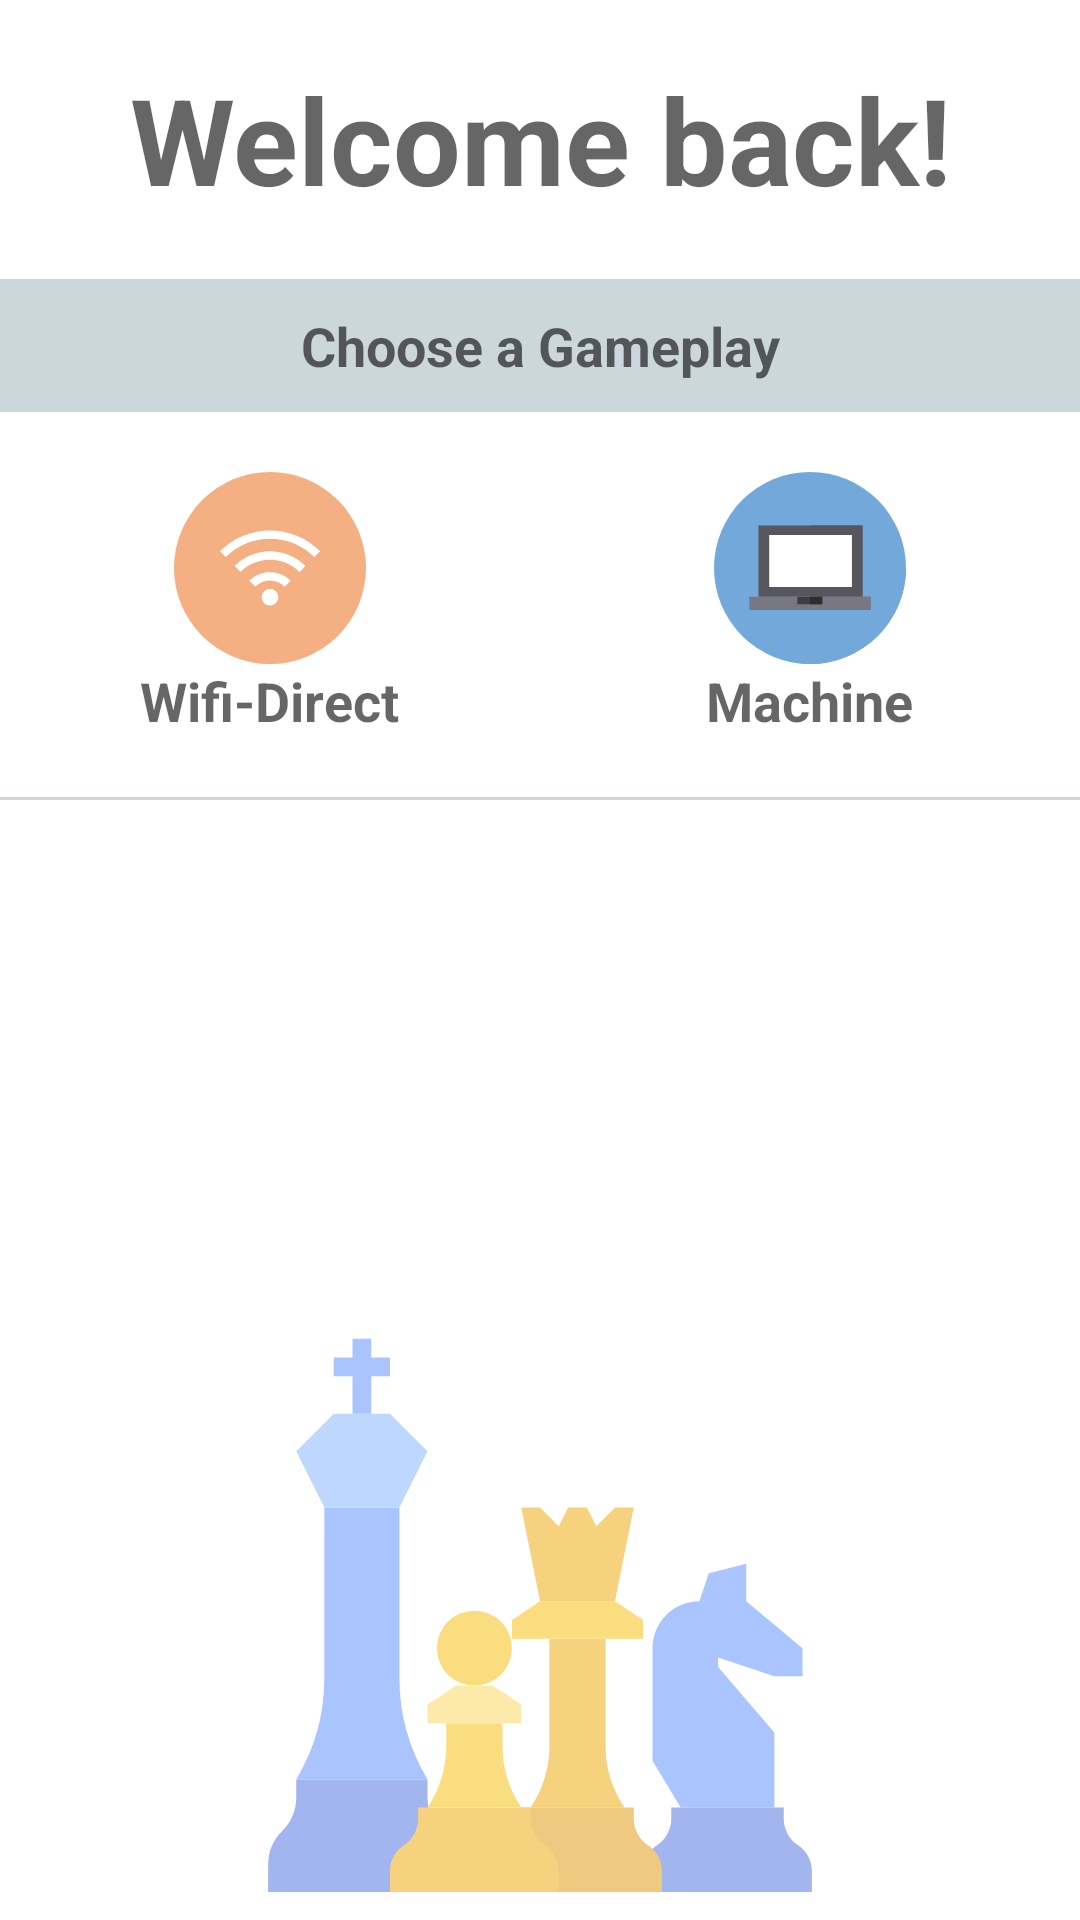

Named icons in this screenshot (1080w x 1920h) and their centers, point (x, y):
laptop: point (810, 568)
